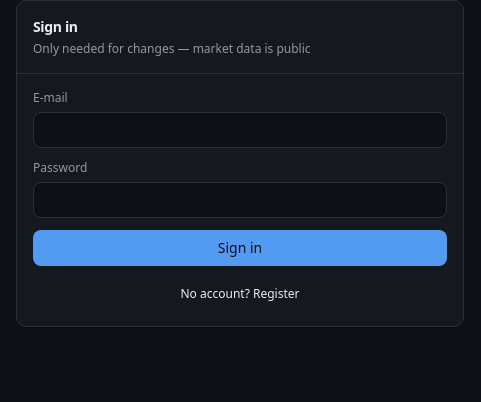
Test: signing in › shows a plain message for wrong credentials
Type "trader@example.com" into the field labelled "E-mail" at (240, 130), box [33,112,447,148]
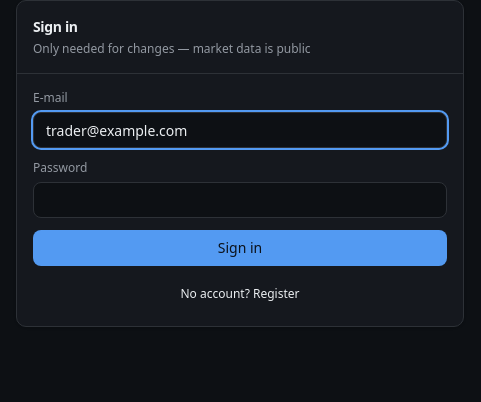
Type "wrong-password" into the password field labelled "Password" at (240, 200), box [33,182,447,218]
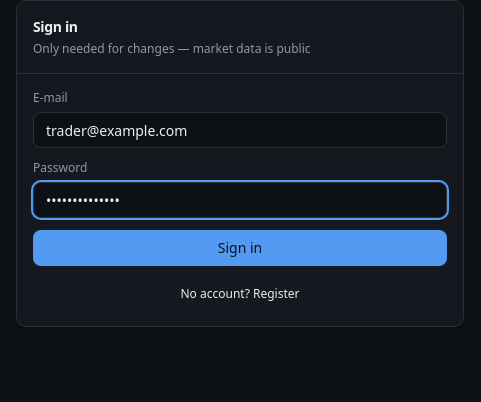
Click the button "Sign in" at (240, 248), box [33,230,447,266]
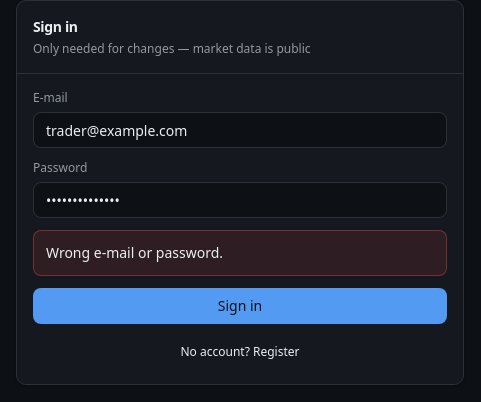
Now the text "Wrong e-mail or password." is shown, box [46,243,223,262]
